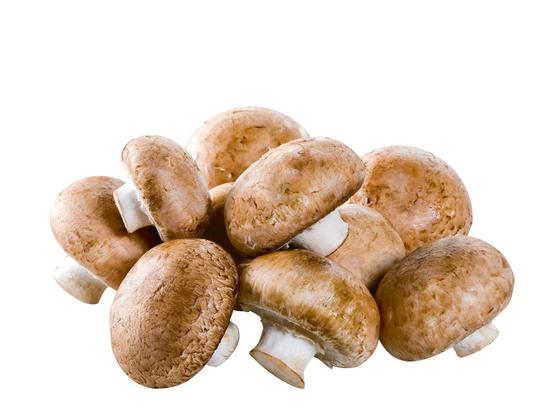champignon: (217, 135, 362, 260)
